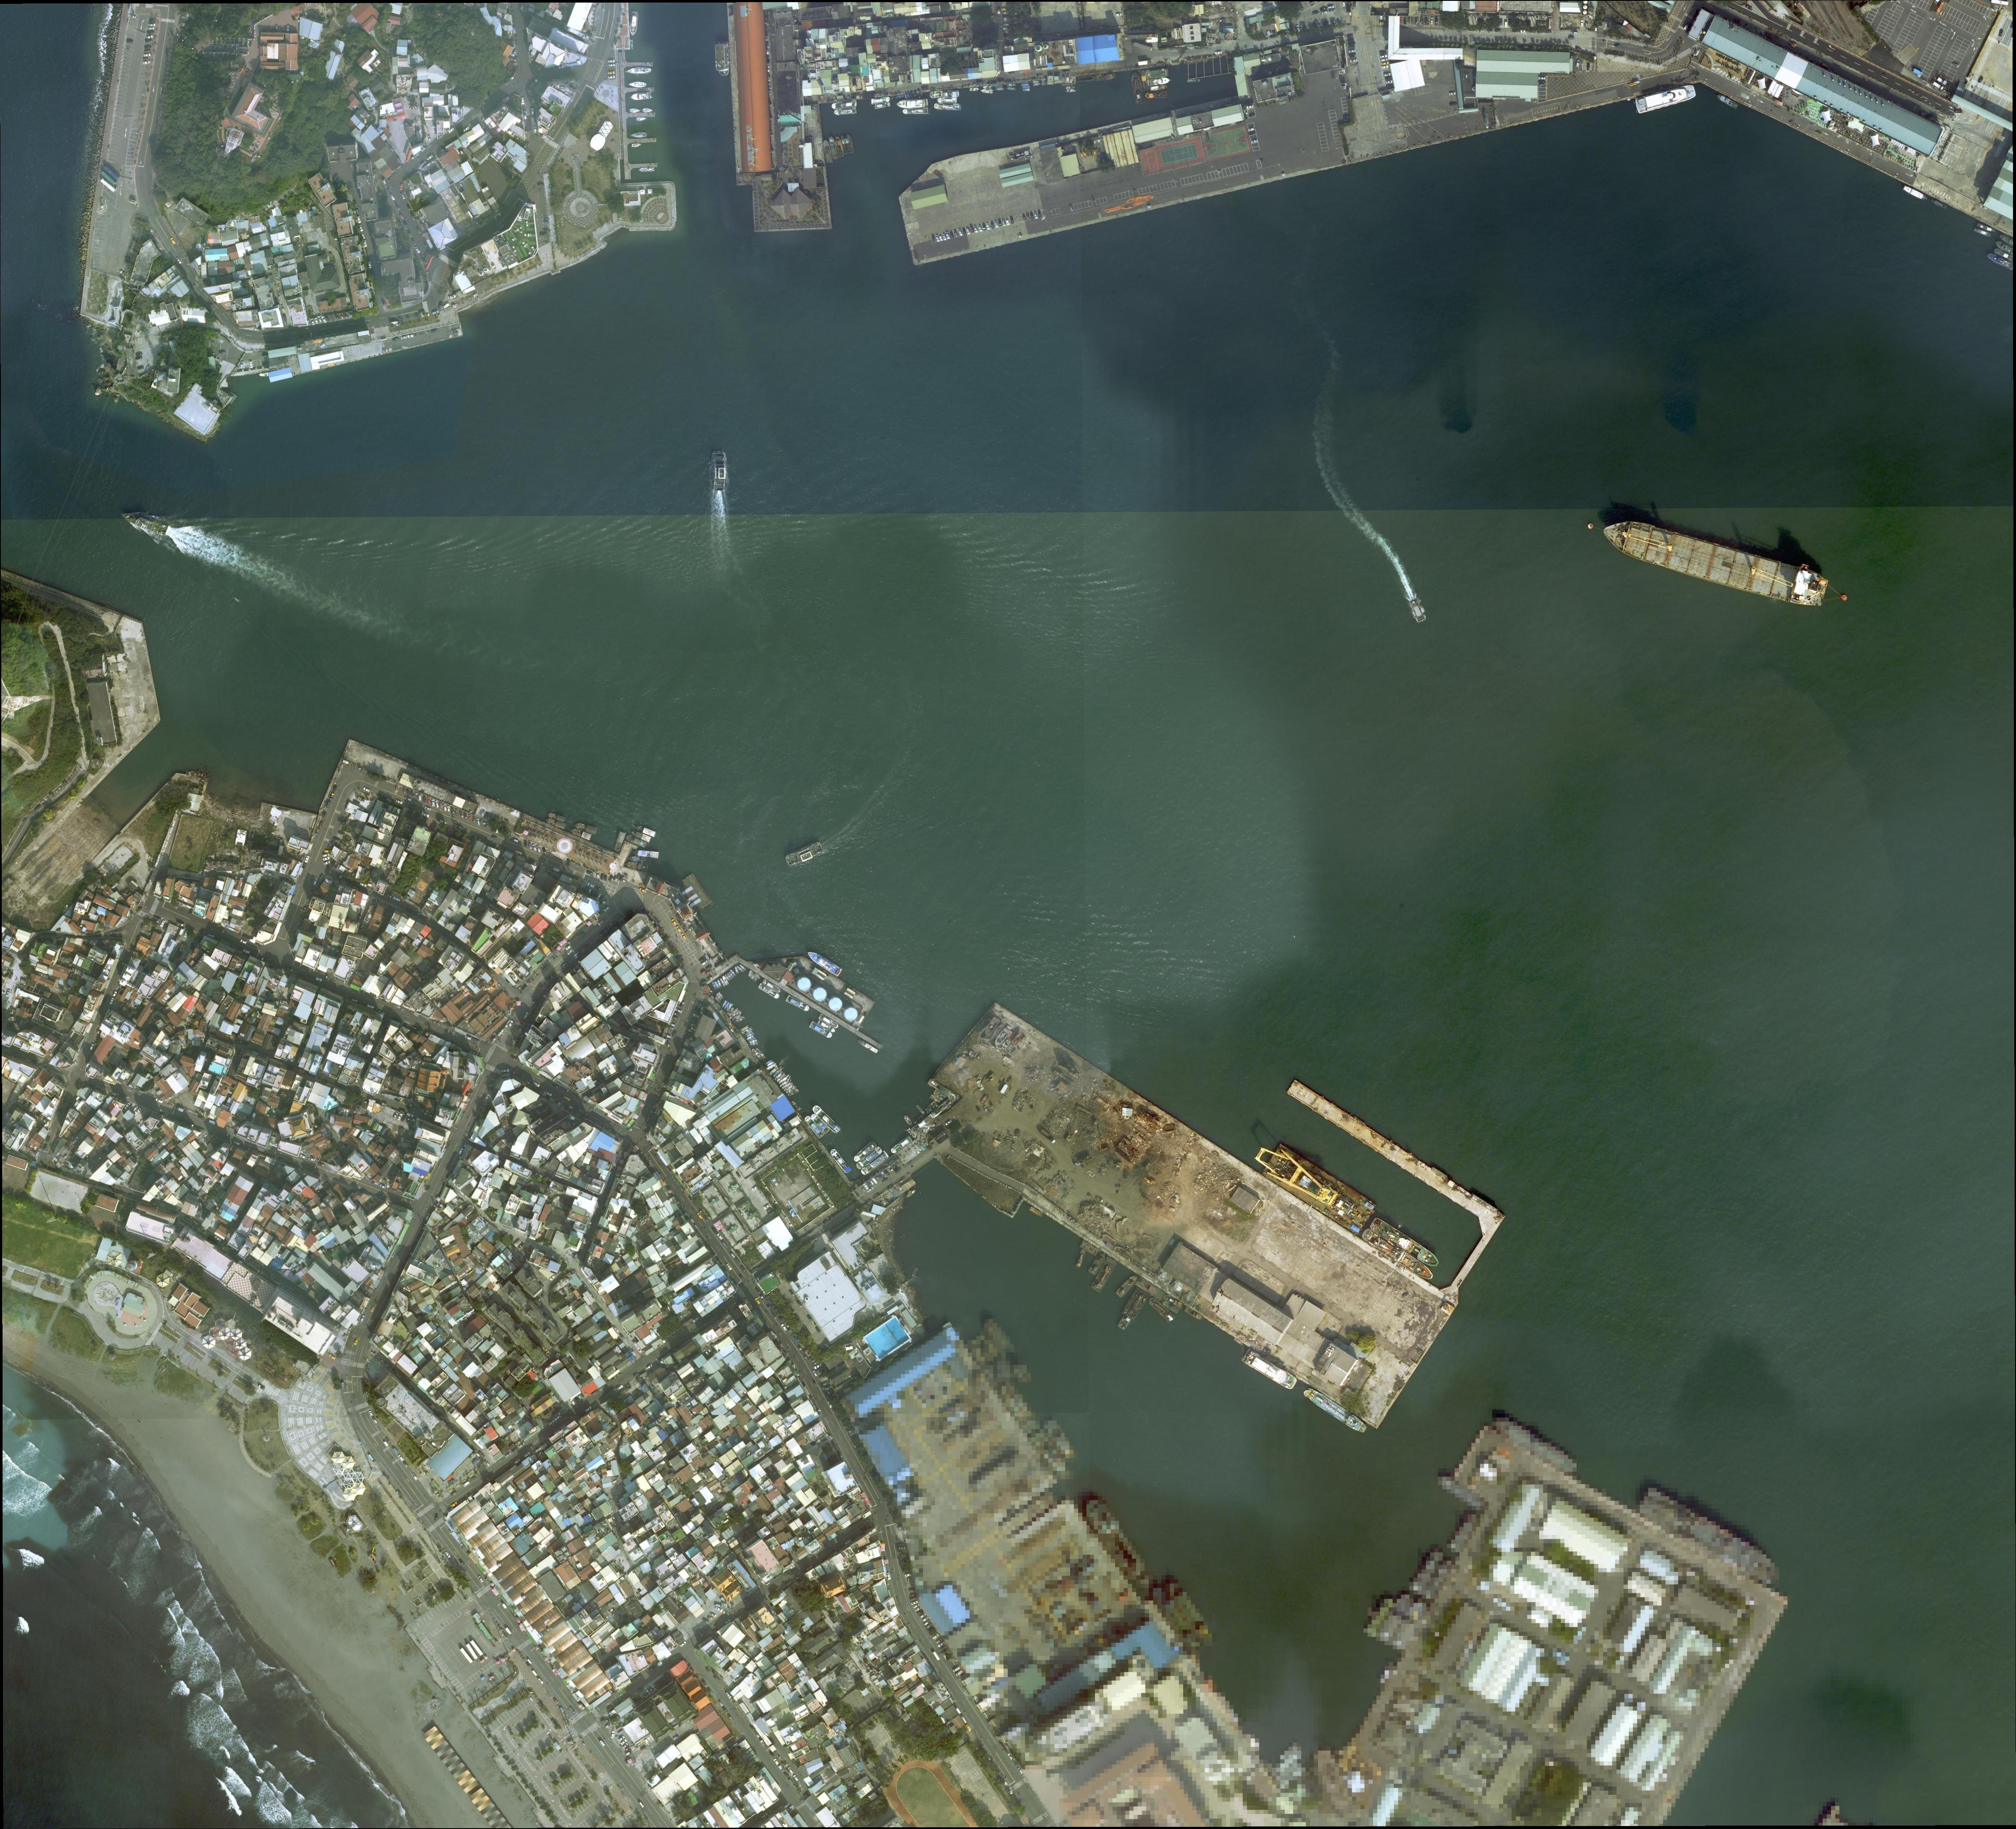harbor: (1285, 1079, 1487, 1216), (623, 61, 653, 67), (625, 88, 655, 93), (627, 139, 657, 144), (627, 112, 655, 118), (630, 163, 659, 169)
ship: (1598, 513, 1830, 613), (1359, 1227, 1436, 1283), (1368, 1215, 1442, 1271), (1301, 1385, 1370, 1434), (1242, 1346, 1298, 1392), (1635, 82, 1698, 114), (118, 506, 169, 539), (1089, 1255, 1119, 1294), (806, 948, 843, 978), (785, 843, 825, 867), (811, 1104, 841, 1134), (1147, 1295, 1175, 1323), (860, 1150, 890, 1176), (1134, 1276, 1166, 1301), (855, 1146, 883, 1171), (829, 1148, 852, 1176), (1129, 70, 1147, 105), (852, 1141, 878, 1164), (1115, 1274, 1140, 1297), (1986, 251, 2014, 270), (985, 1022, 1008, 1044), (810, 1020, 834, 1041), (804, 1115, 825, 1139), (980, 1015, 1001, 1039), (713, 451, 725, 491), (716, 42, 731, 77), (1089, 1252, 1108, 1276), (890, 1136, 913, 1155), (787, 995, 811, 1013), (1716, 93, 1740, 111), (1904, 184, 1928, 202), (992, 1029, 1012, 1050), (759, 983, 781, 1001), (857, 1037, 880, 1055), (810, 1113, 829, 1132), (818, 1013, 839, 1030), (1184, 1306, 1205, 1323), (625, 834, 648, 850), (1410, 599, 1426, 621), (896, 98, 929, 109), (827, 135, 839, 161), (574, 821, 597, 836), (762, 978, 781, 993), (1161, 1299, 1180, 1315), (1995, 239, 2014, 255), (832, 98, 857, 111), (817, 1020, 838, 1034), (613, 832, 627, 853), (571, 827, 592, 841), (929, 90, 961, 98), (632, 828, 652, 843), (1993, 247, 2012, 262), (1145, 68, 1170, 79), (1147, 75, 1171, 86), (636, 825, 657, 837), (634, 850, 659, 860), (629, 12, 639, 37), (546, 818, 567, 830), (1026, 1204, 1043, 1218), (1094, 72, 1117, 82), (1140, 70, 1150, 93), (822, 140, 832, 163), (629, 855, 652, 865), (1974, 226, 1993, 239), (625, 67, 652, 75), (834, 137, 845, 158), (1998, 232, 2014, 246), (1010, 1030, 1024, 1046), (625, 862, 650, 871), (1932, 198, 1949, 211), (548, 811, 565, 823), (839, 135, 850, 154), (1977, 223, 1997, 233), (834, 107, 857, 116), (846, 133, 855, 154), (934, 104, 961, 111), (871, 97, 890, 105), (1075, 74, 1094, 82), (1145, 91, 1168, 98), (630, 93, 653, 100), (901, 109, 929, 114), (903, 1113, 913, 1127), (904, 1188, 918, 1199), (1150, 84, 1170, 91), (875, 102, 892, 109), (629, 81, 646, 88), (632, 132, 648, 139), (938, 98, 957, 104), (980, 90, 994, 95), (1064, 90, 1076, 95), (258, 372, 269, 377), (969, 86, 980, 91), (982, 84, 992, 90), (1006, 86, 1017, 91), (1006, 82, 1017, 88), (639, 169, 655, 172), (1064, 86, 1076, 90), (1033, 82, 1041, 86)
